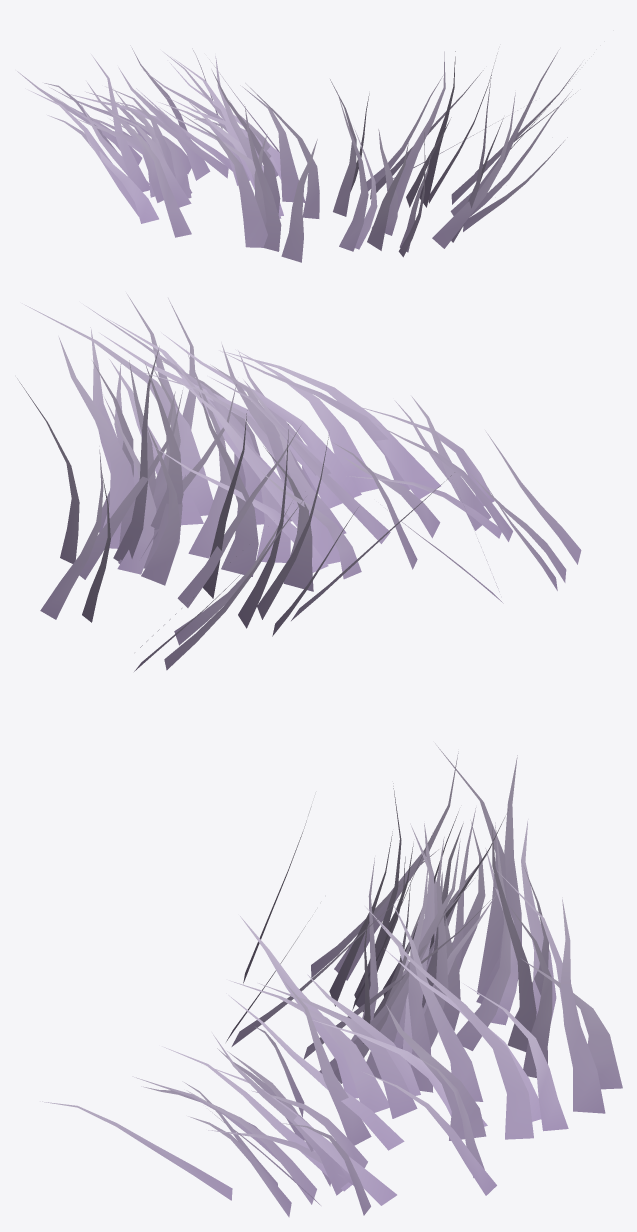
The model's file is mesh-plant-015-shadowmoss-tuft_LOD1.glb.
The picture shows the model from 3 angles, top to bottom: view 1: azimuth 30°, elevation 25°; view 2: azimuth 150°, elevation 25°; view 3: azimuth 270°, elevation 25°; orthographic projection. The views are drawn at different scales.
Visible parts, largest first — view 1: geometry_0; view 2: geometry_0; view 3: geometry_0.
Boxes of the visible parts, x1,y1,x2,y2 form: geometry_0: [17, 45, 580, 262]; geometry_0: [17, 293, 581, 671]; geometry_0: [40, 743, 622, 1217].
Bounding box in the file's own units: 1.6 × 0.3848 × 1.14.
